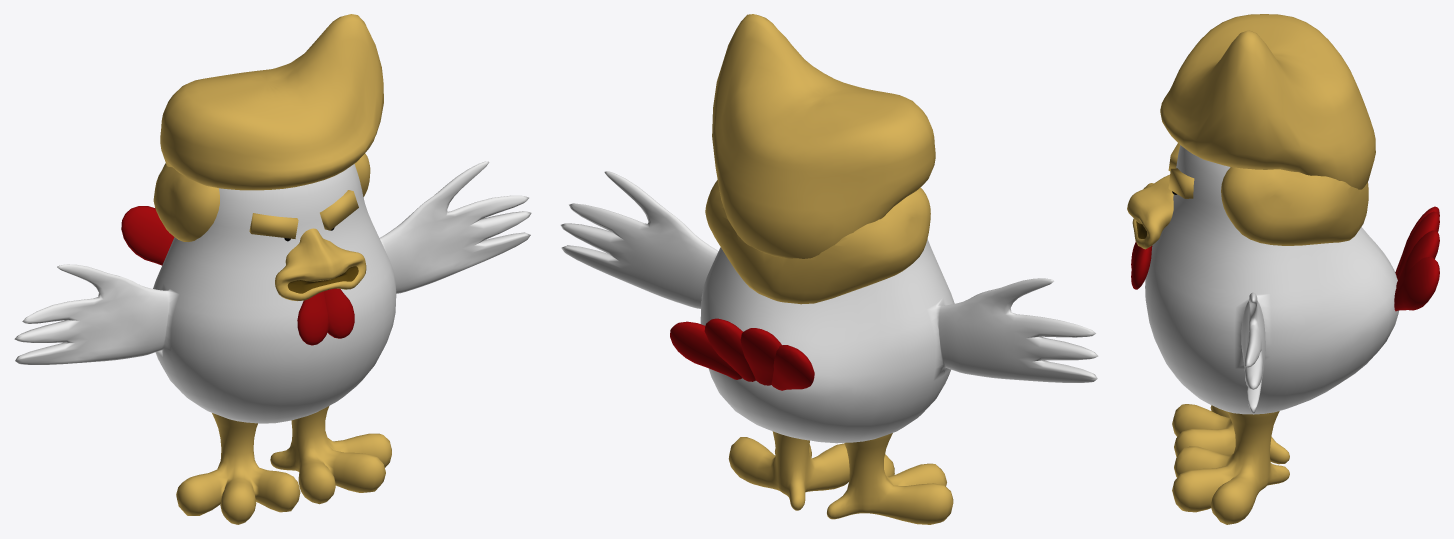
Rendered from roostd.fbx.
The picture shows the model from 3 angles, left to right: view 1: azimuth 30°, elevation 25°; view 2: azimuth 150°, elevation 25°; view 3: azimuth 270°, elevation 25°; orthographic projection. The views are drawn at different scales.
Parts seen in each view (by area): view 1: main body; view 2: main body; view 3: main body.
Part boxes in pixels (bbox=[...]): main body: bbox=[14, 14, 531, 524]; main body: bbox=[560, 14, 1098, 524]; main body: bbox=[1127, 14, 1439, 524].
Bounding box in the file's own units: 576 × 486 × 284.
